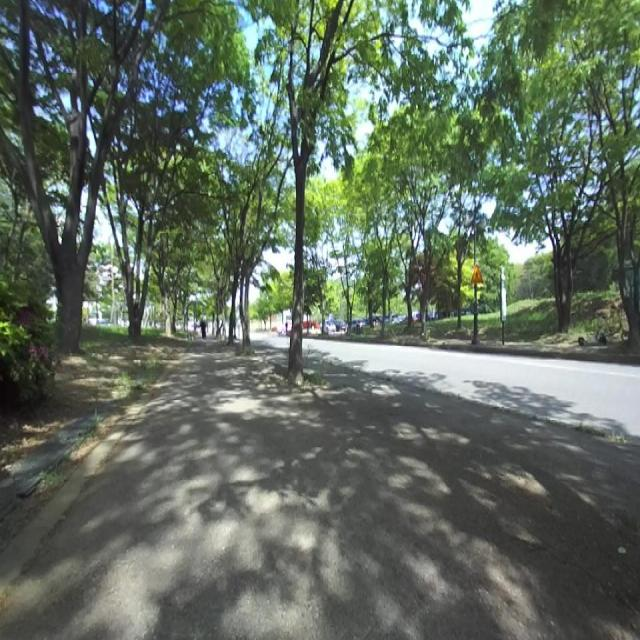sidewalk: (0, 345, 640, 640), (506, 342, 627, 353)
